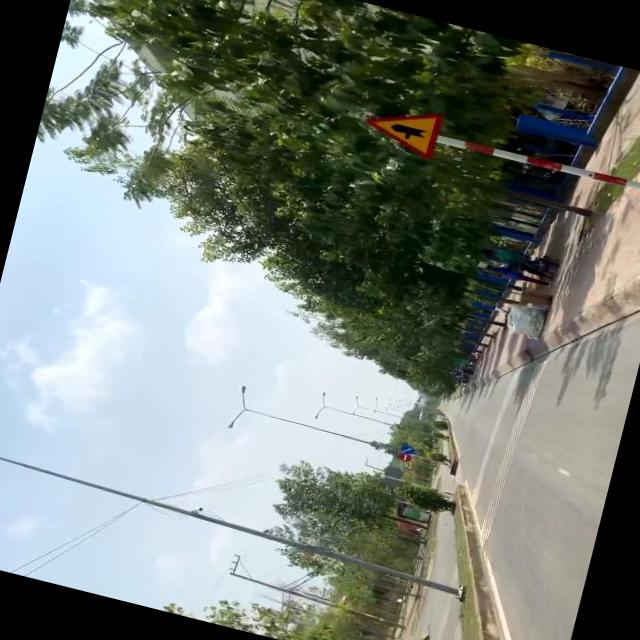P-102: (394, 449, 414, 462)
R-302a: (400, 441, 418, 454)
W-207c: (359, 95, 445, 162)
